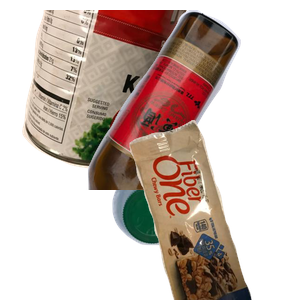glass: (85, 10, 300, 190)
metal: (20, 10, 199, 172)
plastic: (110, 164, 300, 300)
trash: (127, 120, 300, 300)
